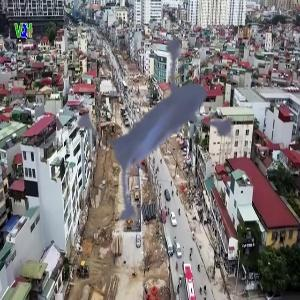drone: (37, 13, 287, 263)
